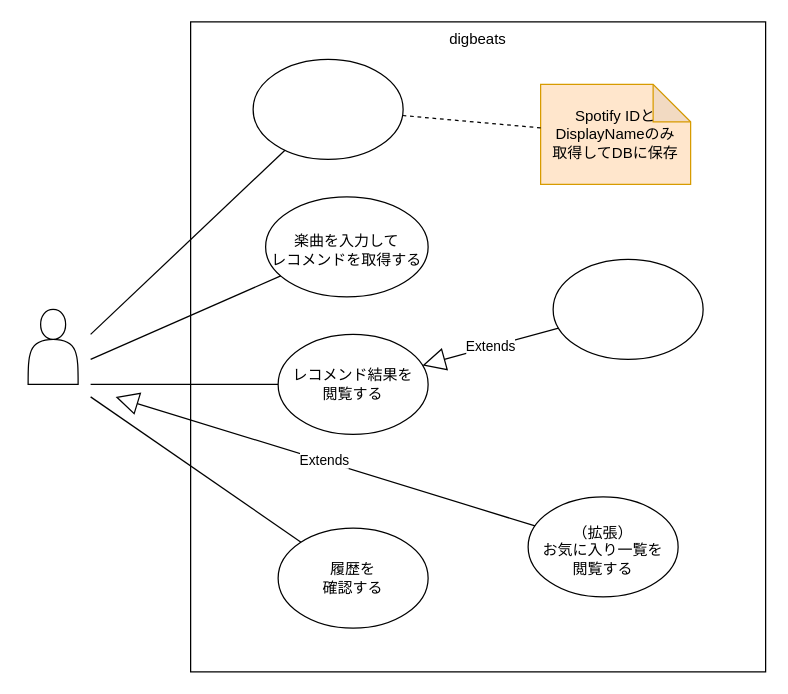
Some shapes in this 788 by 694 pixel diagram are drawn without their labels. Each missing label, with the centre of its shape:
Spotifyで ログインする: [327,108]
User: [52,346]
（拡張） お気に入りに 登録する: [627,308]
